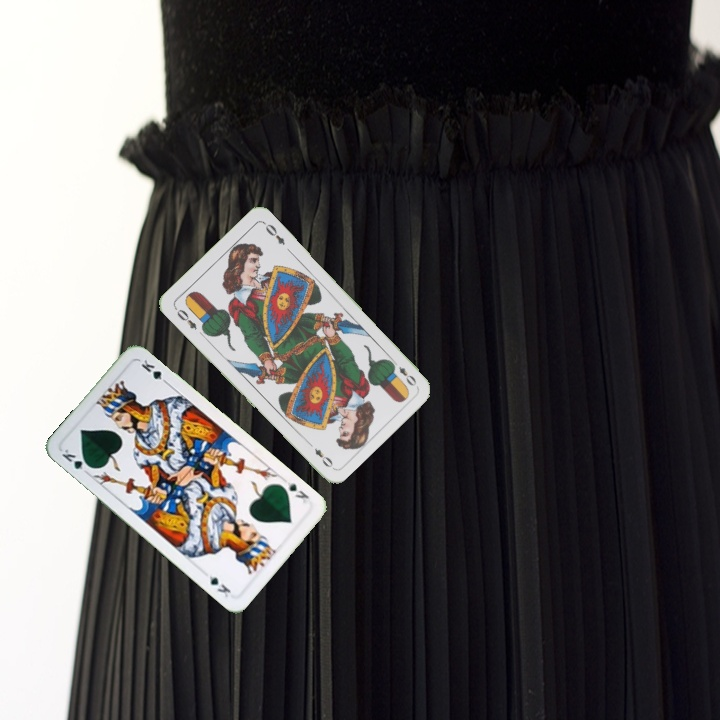EO: (387, 356, 419, 389), (171, 303, 200, 332)
GK: (57, 445, 95, 477), (280, 475, 311, 507)
